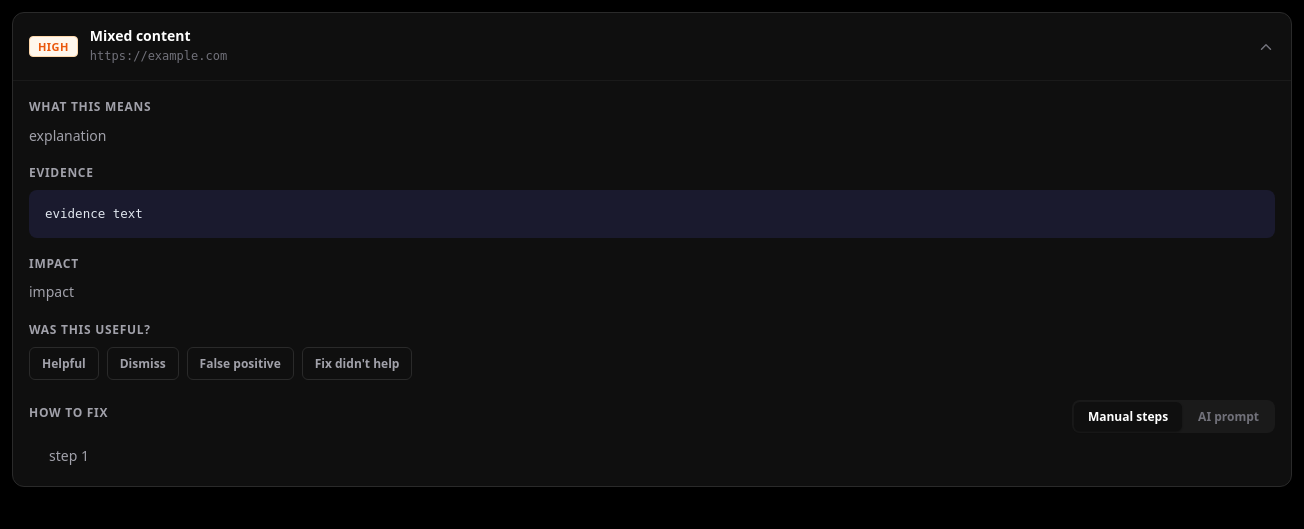
Scenario: FindingCard disposition row › reverts on fetch failure and surfaces an error
Click the button "False positive" at point(240, 364), box x1=187 y1=347 x2=294 y2=380
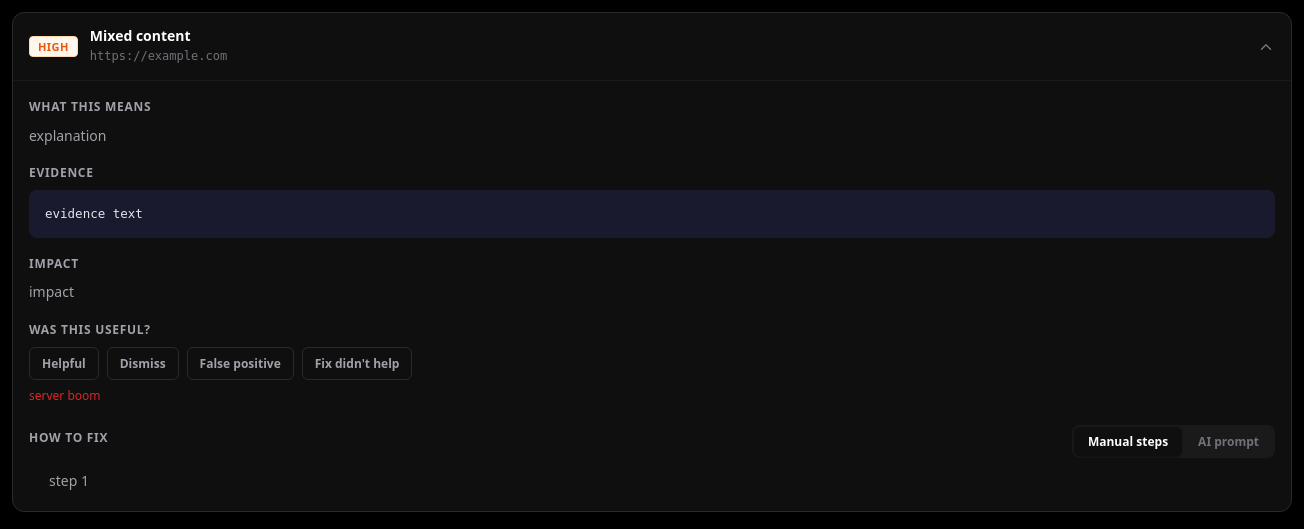
Result: the text "server boom" is shown at x1=29 y1=387 x2=100 y2=404
